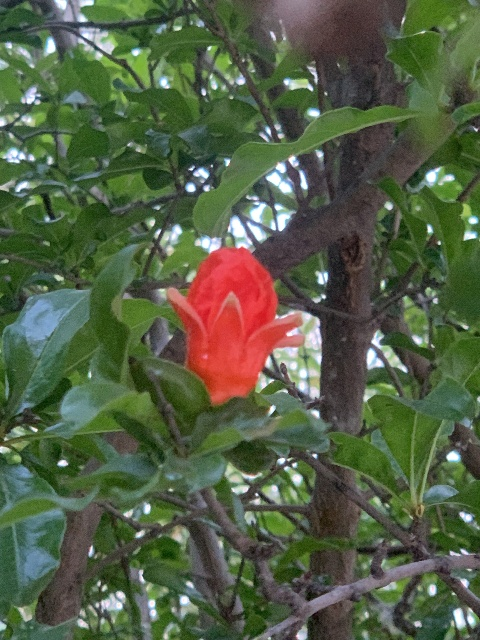flower: (165, 246, 304, 407)
